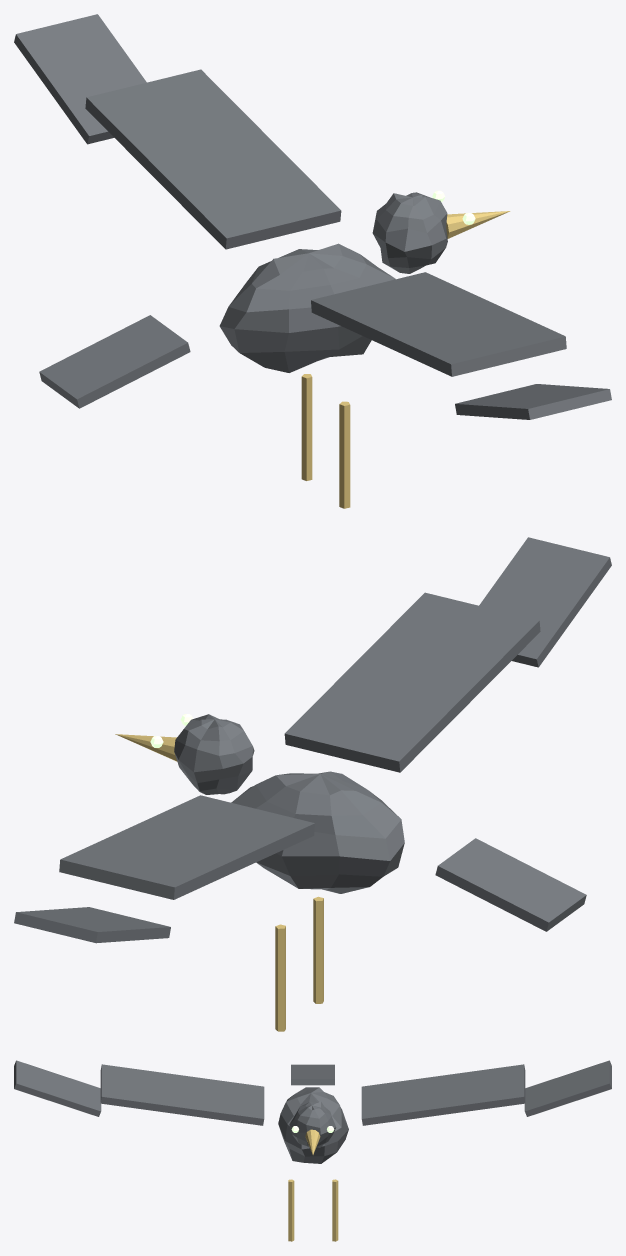
The model's file is bird.glb.
3 renders of one model, top to bottom at view 1: azimuth 30°, elevation 25°; view 2: azimuth 150°, elevation 25°; view 3: azimuth 270°, elevation 25°, orthographic. The views are drawn at different scales.
Parts seen in each view (by area): view 1: wpanel, wpanel.001, body, wtip, tail0, skull, wtip.001, leg, leg.001, beakm; view 2: wpanel.001, wpanel, body, wtip.001, tail0, skull, wtip, leg.001, leg; view 3: wpanel, wpanel.001, wtip, wtip.001, body, skull, tail0, leg, leg.001.
Boxes of the visible parts, x1,y1,x2,y2 form: wpanel: (85, 69, 341, 249); wpanel.001: (311, 272, 566, 376); body: (219, 243, 395, 372); wtip: (14, 14, 146, 144); tail0: (39, 315, 190, 408); skull: (372, 192, 447, 273); wtip.001: (455, 384, 611, 419); leg: (339, 401, 350, 508); leg.001: (301, 374, 312, 480); beakm: (446, 211, 510, 238); wpanel.001: (284, 592, 540, 772); wpanel: (59, 795, 314, 899); body: (231, 771, 404, 893); wtip.001: (479, 537, 611, 667); tail0: (435, 838, 586, 931); skull: (174, 714, 254, 794); wtip: (14, 907, 170, 943); leg.001: (275, 924, 285, 1031); leg: (313, 896, 323, 1003); wpanel: (361, 1064, 525, 1125); wpanel.001: (100, 1064, 264, 1125); wtip: (524, 1060, 611, 1116); wtip.001: (14, 1060, 101, 1116); body: (278, 1087, 348, 1163); skull: (289, 1101, 336, 1147); tail0: (291, 1064, 334, 1085); leg: (288, 1179, 294, 1241); leg.001: (332, 1179, 338, 1241).
Bounding box in the file's own units: 2 × 1.2 × 3.95.
